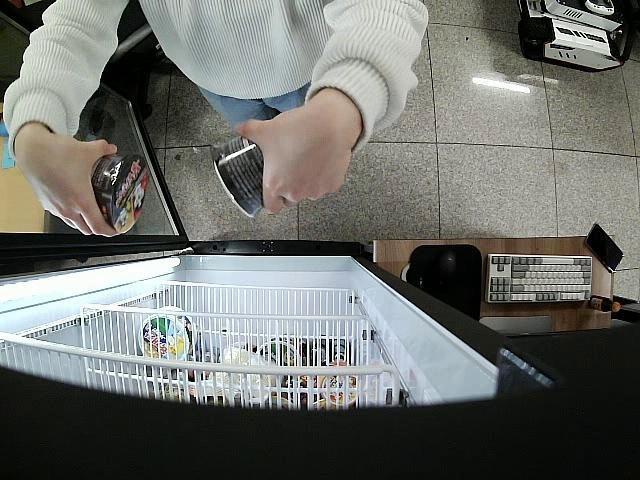08_buldak_S: (210, 138, 269, 218), (91, 149, 150, 228)
